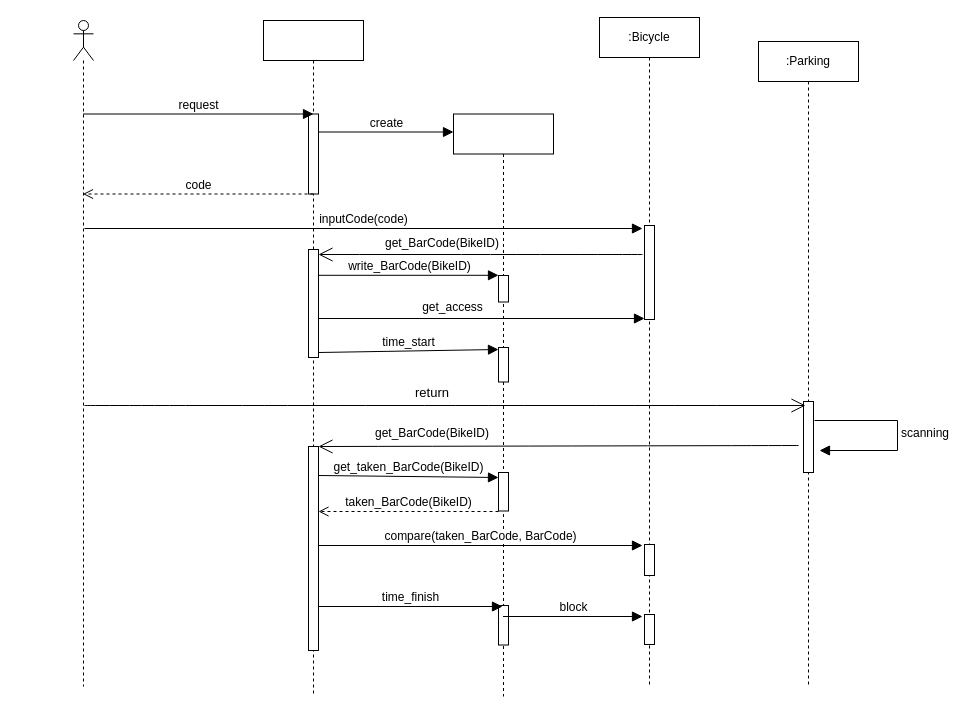
The diagram is 967 pixels wide and 714 high, and some of its shapes have lost their labels. The centre of each missing label's shape, as x and y in pixels:
:Account: (503,404)
:Controller: (313,358)
